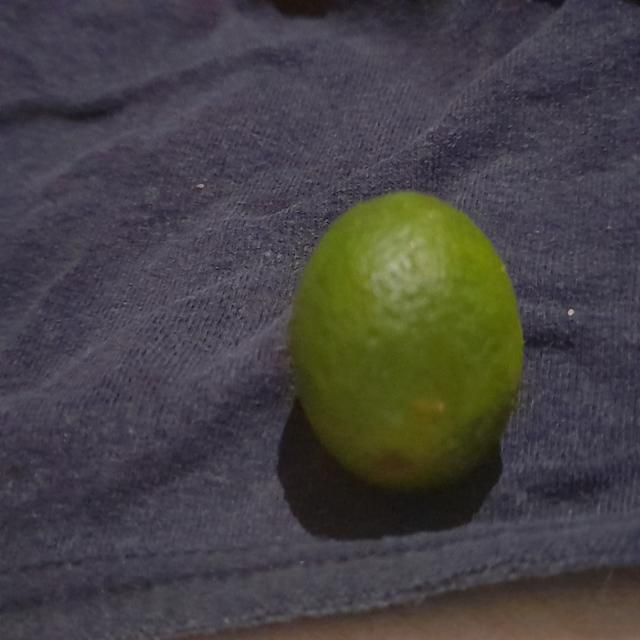heathy: (285, 186, 528, 508)
